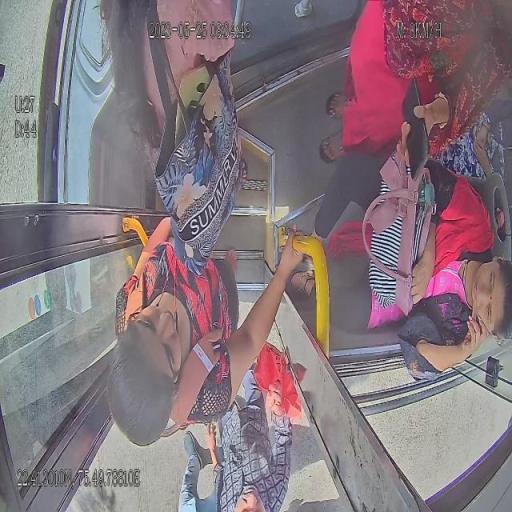persona: (297, 146, 512, 387), (106, 221, 307, 449), (98, 0, 264, 262), (289, 0, 511, 177), (205, 341, 305, 512), (180, 429, 221, 512)
